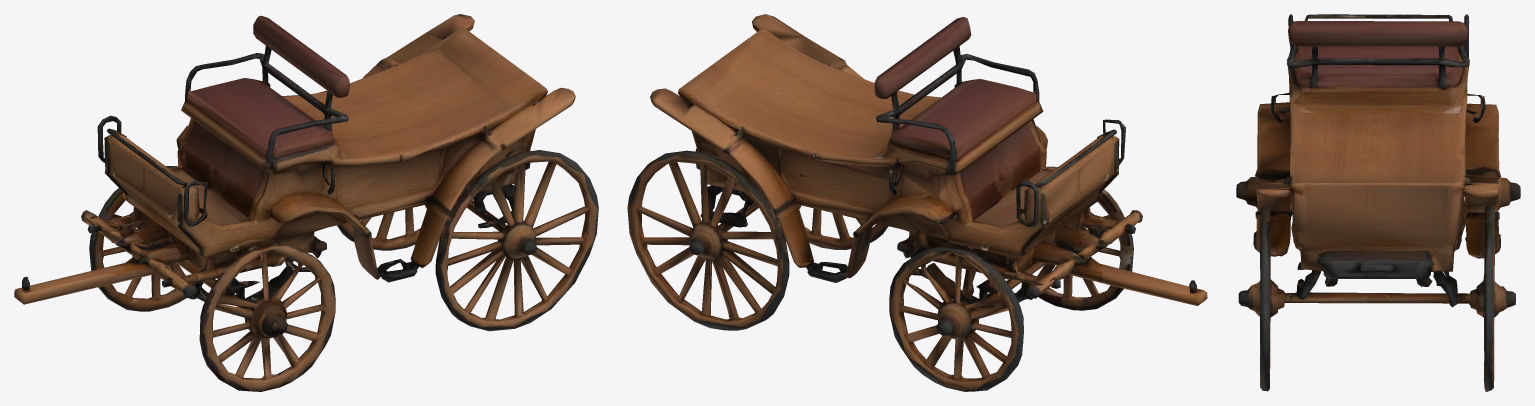
The picture shows the model from 3 angles, left to right: view 1: azimuth 30°, elevation 25°; view 2: azimuth 150°, elevation 25°; view 3: azimuth 270°, elevation 25°; orthographic projection. The views are drawn at different scales.
Visible parts, largest first — view 1: Mesh_0; view 2: Mesh_0; view 3: Mesh_0.
Part boxes in pixels (x1,y1,x2,y2): Mesh_0: [14, 14, 598, 391]; Mesh_0: [627, 14, 1207, 391]; Mesh_0: [1236, 14, 1520, 391].
Size of the model in its own units: 2 by 1.03 by 0.9224.
1 material, 1 textured.
